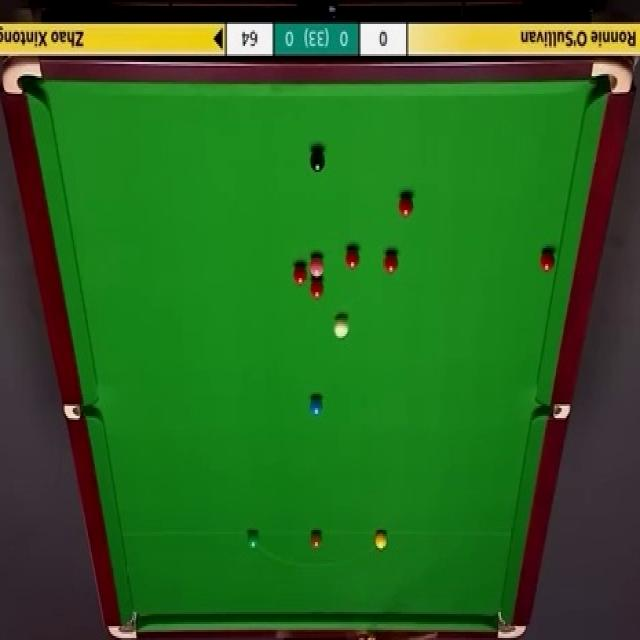black-ball: (310, 151, 326, 172)
blue-ball: (310, 398, 324, 415)
brown-ball: (312, 531, 322, 549)
green-ball: (245, 530, 260, 552)
pink-ball: (310, 257, 324, 276)
red-ball: (398, 195, 414, 217), (292, 264, 307, 286), (541, 250, 555, 272), (384, 253, 398, 274), (309, 279, 323, 300), (345, 247, 357, 268)
white-ball: (333, 314, 352, 339)
yellow-ball: (375, 530, 387, 550)
